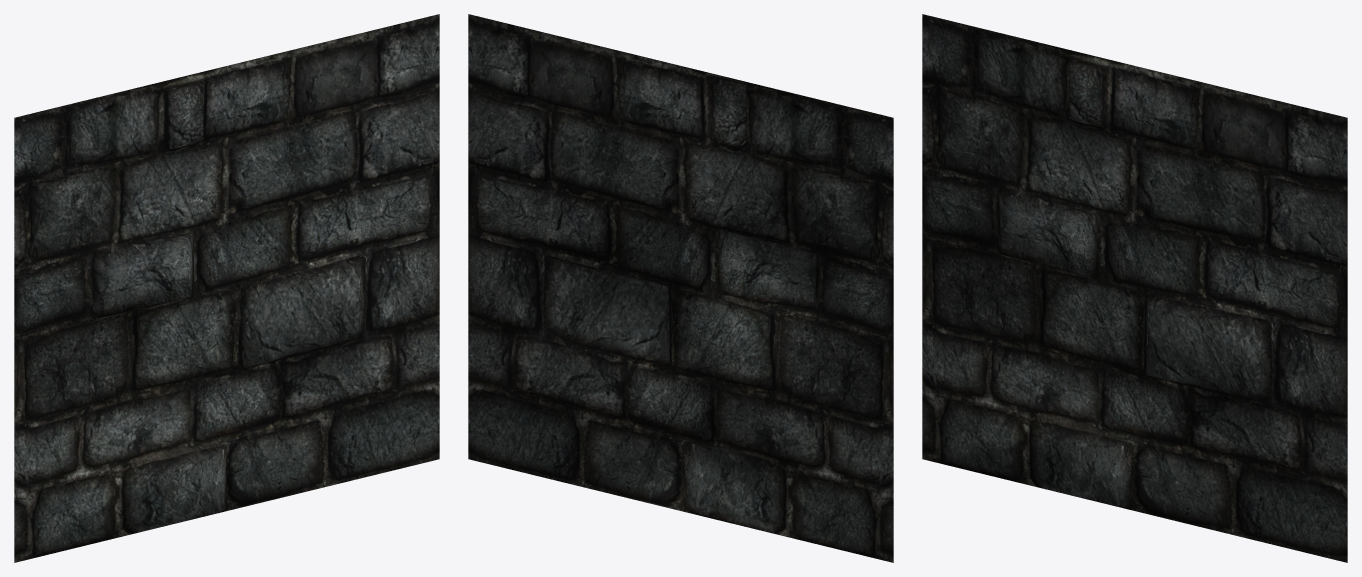
The model's file is default_square_brick_exstension.dae.
The picture shows the model from 3 angles, left to right: view 1: azimuth 30°, elevation 25°; view 2: azimuth 150°, elevation 25°; view 3: azimuth 330°, elevation 25°; orthographic projection.
Parts seen in each view (by area): view 1: polySurface121; view 2: polySurface121; view 3: polySurface121.
Part boxes in pixels (x1=…): polySurface121: x1=14, y1=14, x2=439, y2=562; polySurface121: x1=468, y1=14, x2=893, y2=562; polySurface121: x1=922, y1=14, x2=1347, y2=562.
Bounding box in the file's own units: 4 × 4 × 0.1198.
